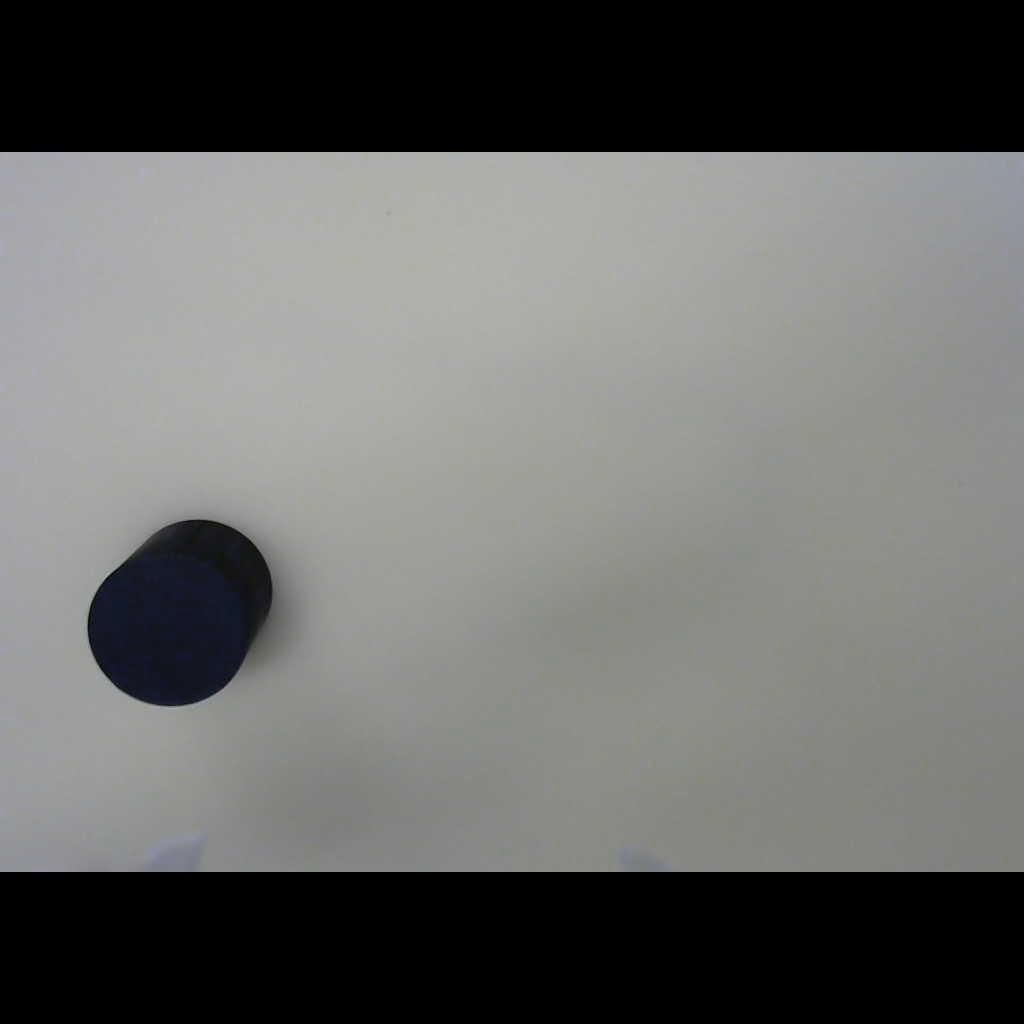circle: (75, 501, 289, 724)
